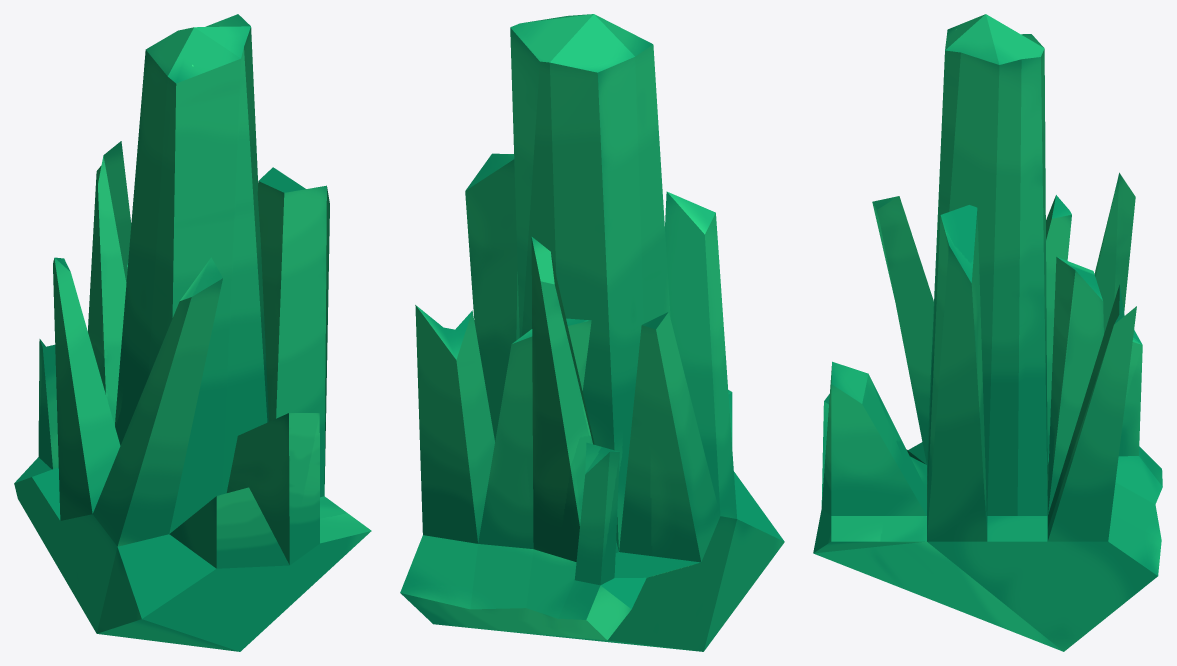
Rendered from crystal.fbx.
3 views of the same model, side by side, from view 1: azimuth 30°, elevation 25°; view 2: azimuth 150°, elevation 25°; view 3: azimuth 270°, elevation 25° (orthographic). The views are drawn at different scales.
Visible parts, largest first — view 1: Cube; view 2: Cube; view 3: Cube.
Boxes of the visible parts, x1=… form: Cube: x1=14, y1=14, x2=371, y2=651; Cube: x1=400, y1=14, x2=784, y2=651; Cube: x1=813, y1=14, x2=1162, y2=651.
Bounding box in the file's own units: 238 × 535 × 289.
